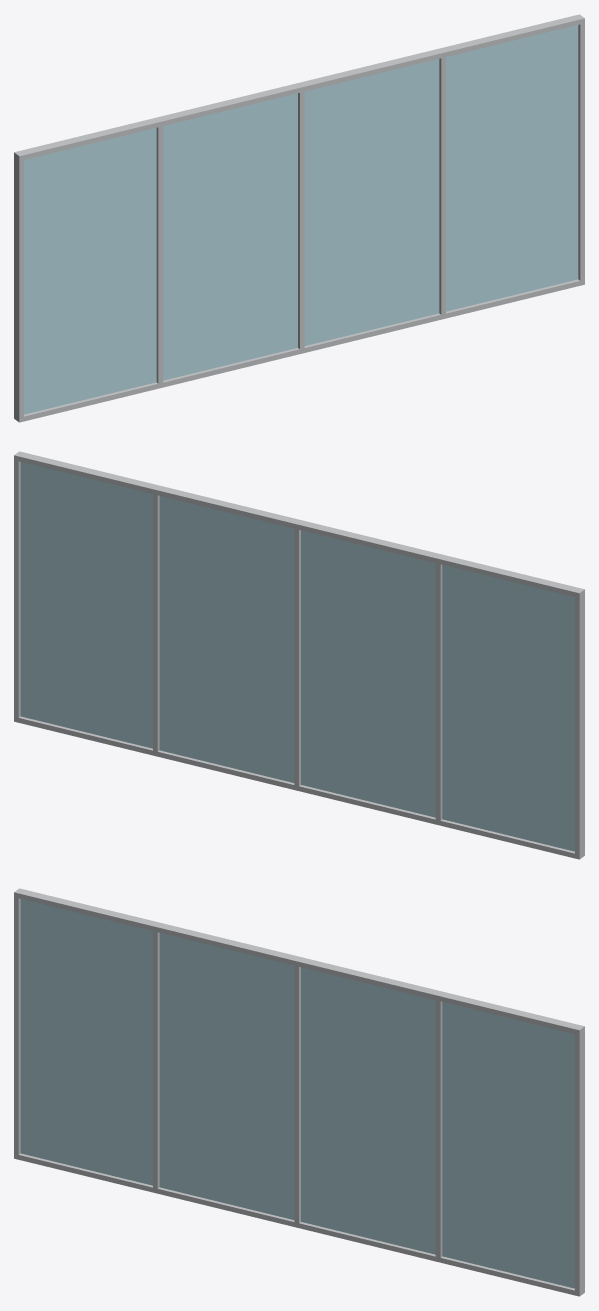
The model's file is opening.window.fixed_6000x2700.glb.
The picture shows the model from 3 angles, top to bottom: view 1: azimuth 30°, elevation 25°; view 2: azimuth 150°, elevation 25°; view 3: azimuth 330°, elevation 25°; orthographic projection.
Parts seen in each view (by area): view 1: glazing__glass, frame__aluminium; view 2: glazing__glass, frame__aluminium; view 3: glazing__glass, frame__aluminium.
Boxes of the visible parts, box(x1,y1,x2,y2) form: glazing__glass: box(24, 25, 578, 414); frame__aluminium: box(14, 14, 584, 422); glazing__glass: box(20, 462, 574, 851); frame__aluminium: box(14, 451, 584, 859); glazing__glass: box(20, 899, 574, 1288); frame__aluminium: box(14, 888, 584, 1296).
Size of the model in its own units: 6 by 2.7 by 0.1.
